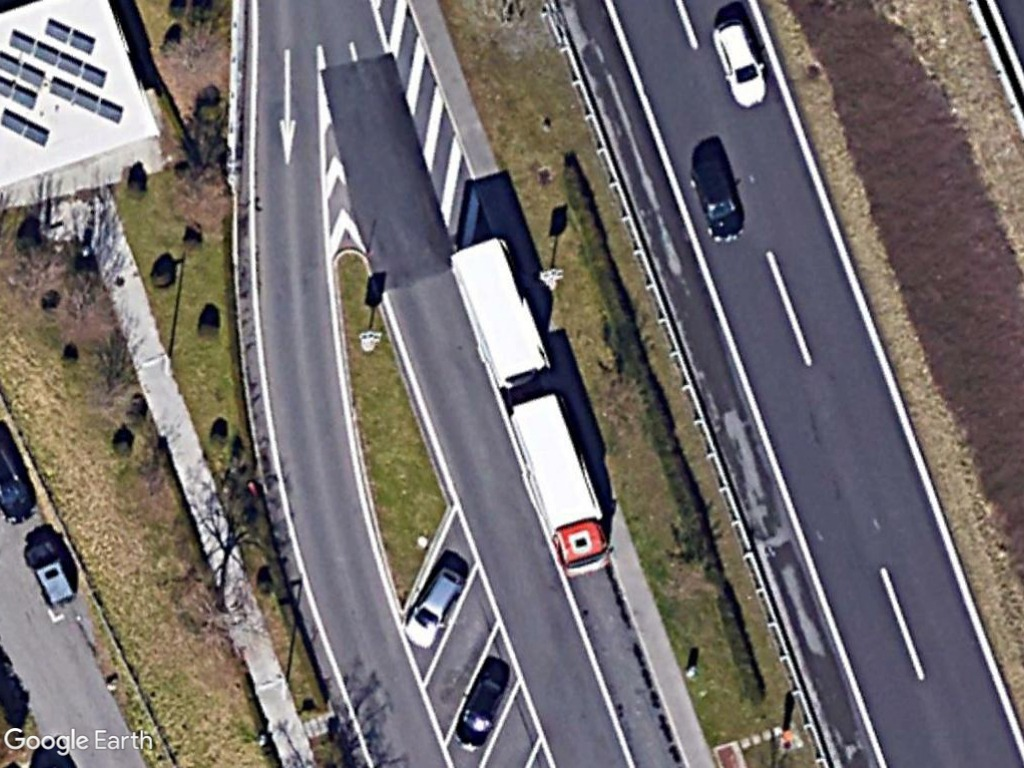car: (709, 15, 773, 111), (400, 557, 466, 650), (686, 155, 749, 248), (453, 661, 513, 752)
truck: (505, 390, 613, 579)
